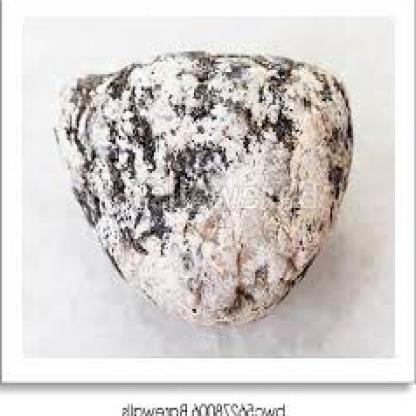Igneous_Diorite: (56, 35, 365, 338)
